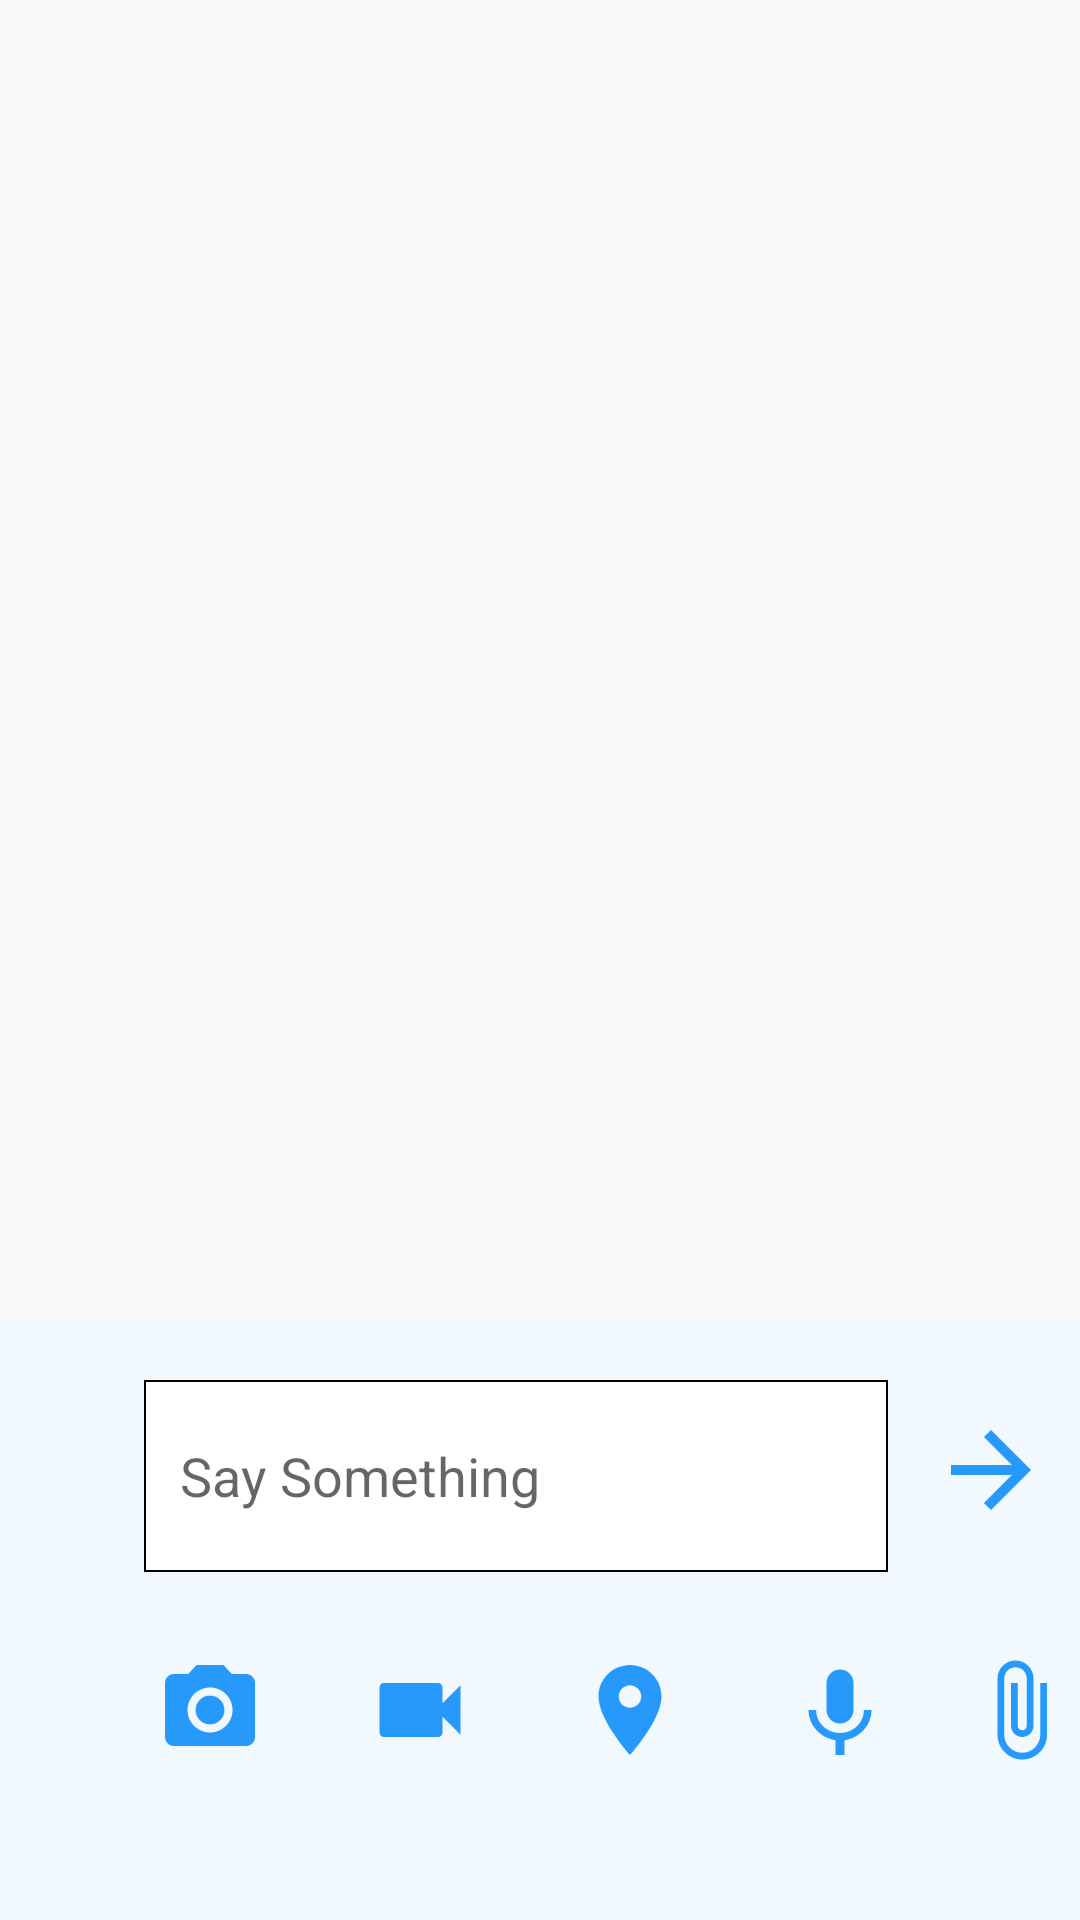

Where to tap for icons on this 1080 x 1920 app screen, as (x=x, y=y):
attach file: (x=1022, y=1710)
keyboard voice: (x=840, y=1712)
location on: (x=630, y=1710)
photo camera: (x=210, y=1705)
send: (x=991, y=1470)
videocam: (x=420, y=1710)
